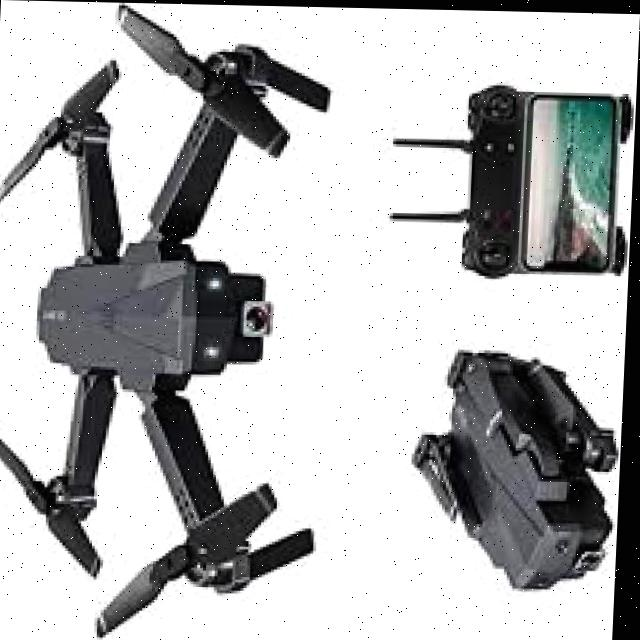drone: (0, 0, 384, 640)
